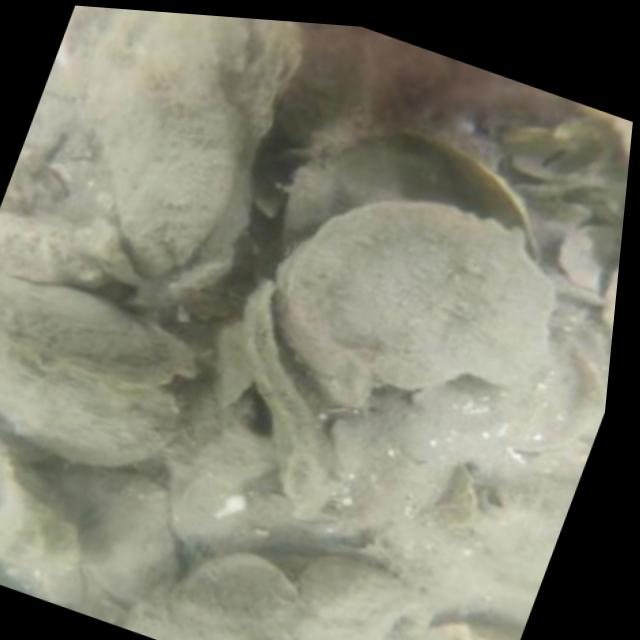Oyster-Closed: (415, 126, 537, 254)
Oyster-Indeterminate: (274, 203, 551, 408), (79, 9, 242, 267), (0, 334, 185, 465), (243, 280, 346, 511), (0, 271, 198, 386), (59, 462, 178, 603), (126, 579, 395, 640), (180, 555, 300, 631), (0, 213, 111, 289), (304, 555, 414, 622), (384, 621, 517, 640)
